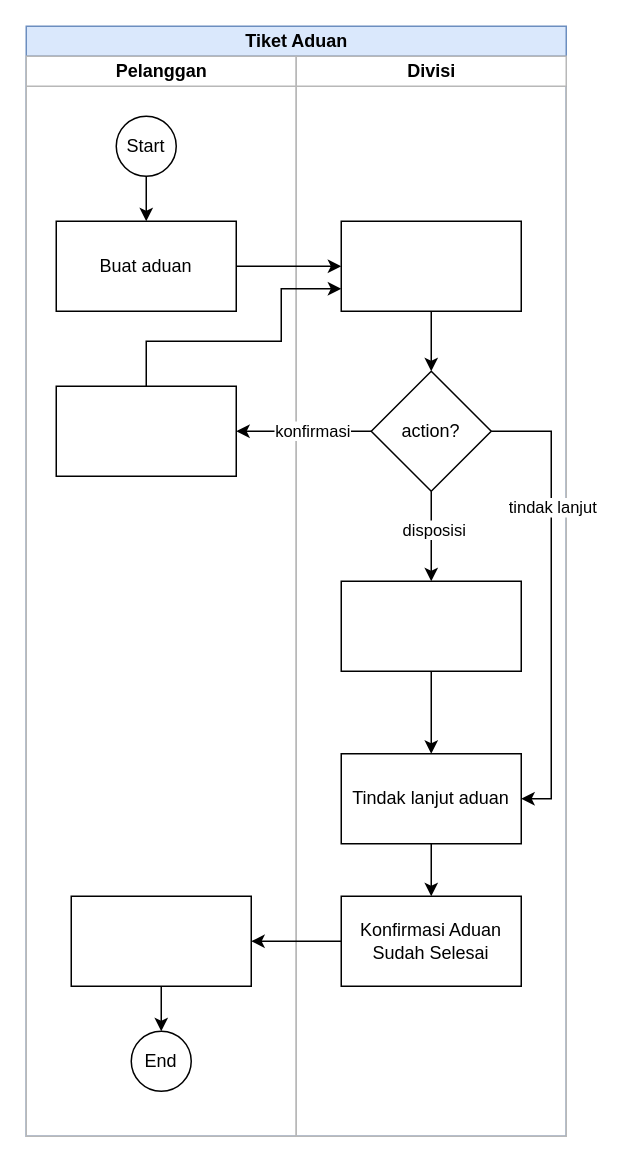
The diagram is 623 pixels wide and 1163 high, and some of its shapes have lost their labels. Here are the shapes that lost their labels. From the top down, the centre of each, then its label:
point (430, 265): Terima pesan aduan
point (145, 430): Balas pesan konfirmasi
point (430, 625): Disposisi ke Divisi lain
point (160, 940): Menerima status Aduan Selesai
